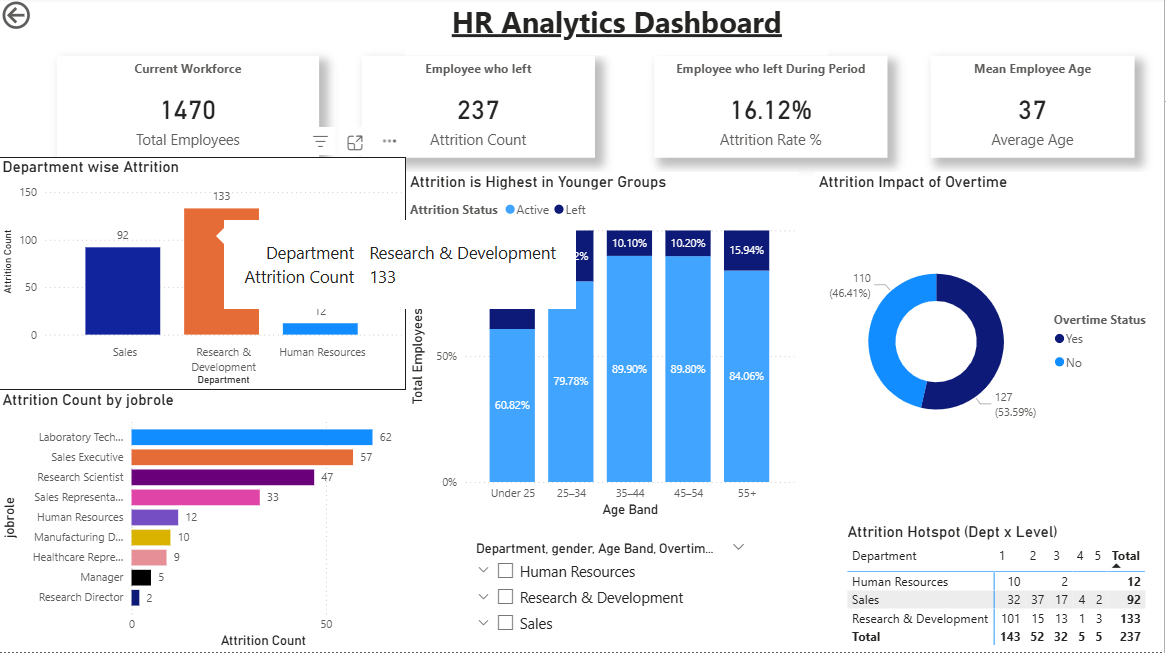

This screenshot's page, from the dashboard's own definition file:
{"tool":"powerbi","page":{"name":"Hr_Analytics","canvas":[1280,720],"ordinal":0},"visuals":[{"type":"card","fields":{"Values":["hr_analytics_final_cleaned.Total Employees"]},"box":[64,64,288,112],"z":0},{"type":"actionButton","box":[0,0,100,40],"z":1000},{"type":"card","fields":{"Values":["hr_analytics_final_cleaned.Attrition Count"]},"box":[400,64,256,112],"z":2000},{"type":"card","fields":{"Values":["hr_analytics_final_cleaned.Attrition Rate %"]},"box":[720,64,256,112],"z":3000},{"type":"card","fields":{"Values":["hr_analytics_final_cleaned.Average Age"]},"box":[1024,64,224,112],"z":4000},{"type":"hundredPercentStackedColumnChart","title":"Attrition is Highest in Younger and Older Age Groups","fields":{"Series":["hr_analytics_final_cleaned.Attrition Status"],"Y":["hr_analytics_final_cleaned.Total Employees"],"Category":["hr_analytics_final_cleaned.Age Band"]},"box":[448,192,432,384],"z":5000},{"type":"clusteredColumnChart","title":"Department wise Attrition","fields":{"Category":["hr_analytics_final_cleaned.department"],"Y":["hr_analytics_final_cleaned.Attrition Count"]},"box":[0,192,448,256],"z":6000},{"type":"donutChart","title":"Attrition Impact of Overtime","fields":{"Category":["hr_analytics_final_cleaned.Overtime Status"],"Y":["hr_analytics_final_cleaned.Attrition Count"]},"box":[896,192,384,352],"z":7000},{"type":"clusteredBarChart","fields":{"Category":["hr_analytics_final_cleaned.jobrole"],"Y":["hr_analytics_final_cleaned.Attrition Count"]},"box":[0,448,448,272],"z":8000},{"type":"slicer","fields":{"Values":["hr_analytics_final_cleaned.department","hr_analytics_final_cleaned.gender","hr_analytics_final_cleaned.Age Band","hr_analytics_final_cleaned.Overtime Status"]},"box":[512,592,320,128],"z":9000},{"type":"textbox","box":[448,0,464,64],"z":10000},{"type":"pivotTable","title":"Attrition Hotspot (Dept x Level)","fields":{"Rows":["hr_analytics_final_cleaned.department"],"Columns":["hr_analytics_final_cleaned.joblevel"],"Values":["hr_analytics_final_cleaned.Attrition Count"]},"box":[928,576,352,144],"z":11000}]}

Visuals, with their boxes in screenshot pixels (x1, y1, x2, y2), scaled from the page's 1280x720 canvas onto the 1166x653 screenshot:
card - hr_analytics_final_cleaned.Total Employees: bbox=(58, 58, 321, 160)
actionButton: bbox=(0, 0, 91, 36)
card - hr_analytics_final_cleaned.Attrition Count: bbox=(364, 58, 598, 160)
card - hr_analytics_final_cleaned.Attrition Rate %: bbox=(656, 58, 889, 160)
card - hr_analytics_final_cleaned.Average Age: bbox=(933, 58, 1137, 160)
"Attrition is Highest in Younger and Older Age Groups" hundredPercentStackedColumnChart: bbox=(408, 174, 802, 522)
"Department wise Attrition" clusteredColumnChart: bbox=(0, 174, 408, 406)
"Attrition Impact of Overtime" donutChart: bbox=(816, 174, 1165, 493)
clusteredBarChart - hr_analytics_final_cleaned.jobrole x hr_analytics_final_cleaned.Attrition Count: bbox=(0, 406, 408, 652)
slicer - hr_analytics_final_cleaned.department x hr_analytics_final_cleaned.gender: bbox=(466, 537, 758, 652)
textbox: bbox=(408, 0, 831, 58)
"Attrition Hotspot (Dept x Level)" pivotTable: bbox=(845, 522, 1165, 652)
